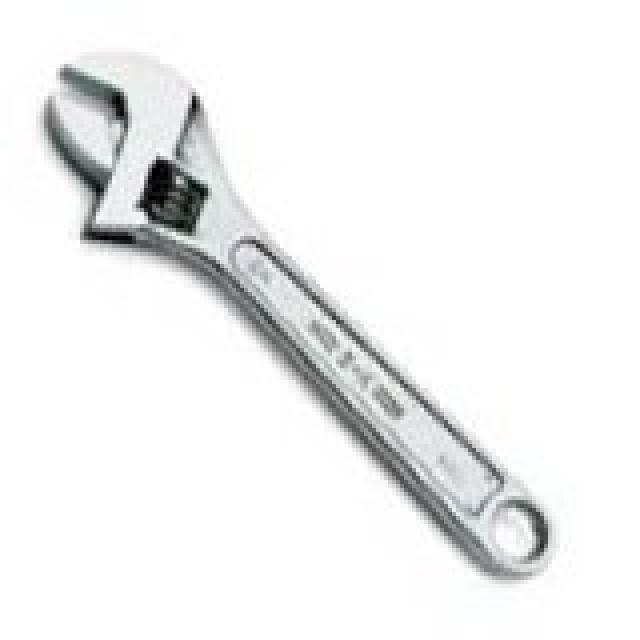wrench: (35, 36, 565, 592)
